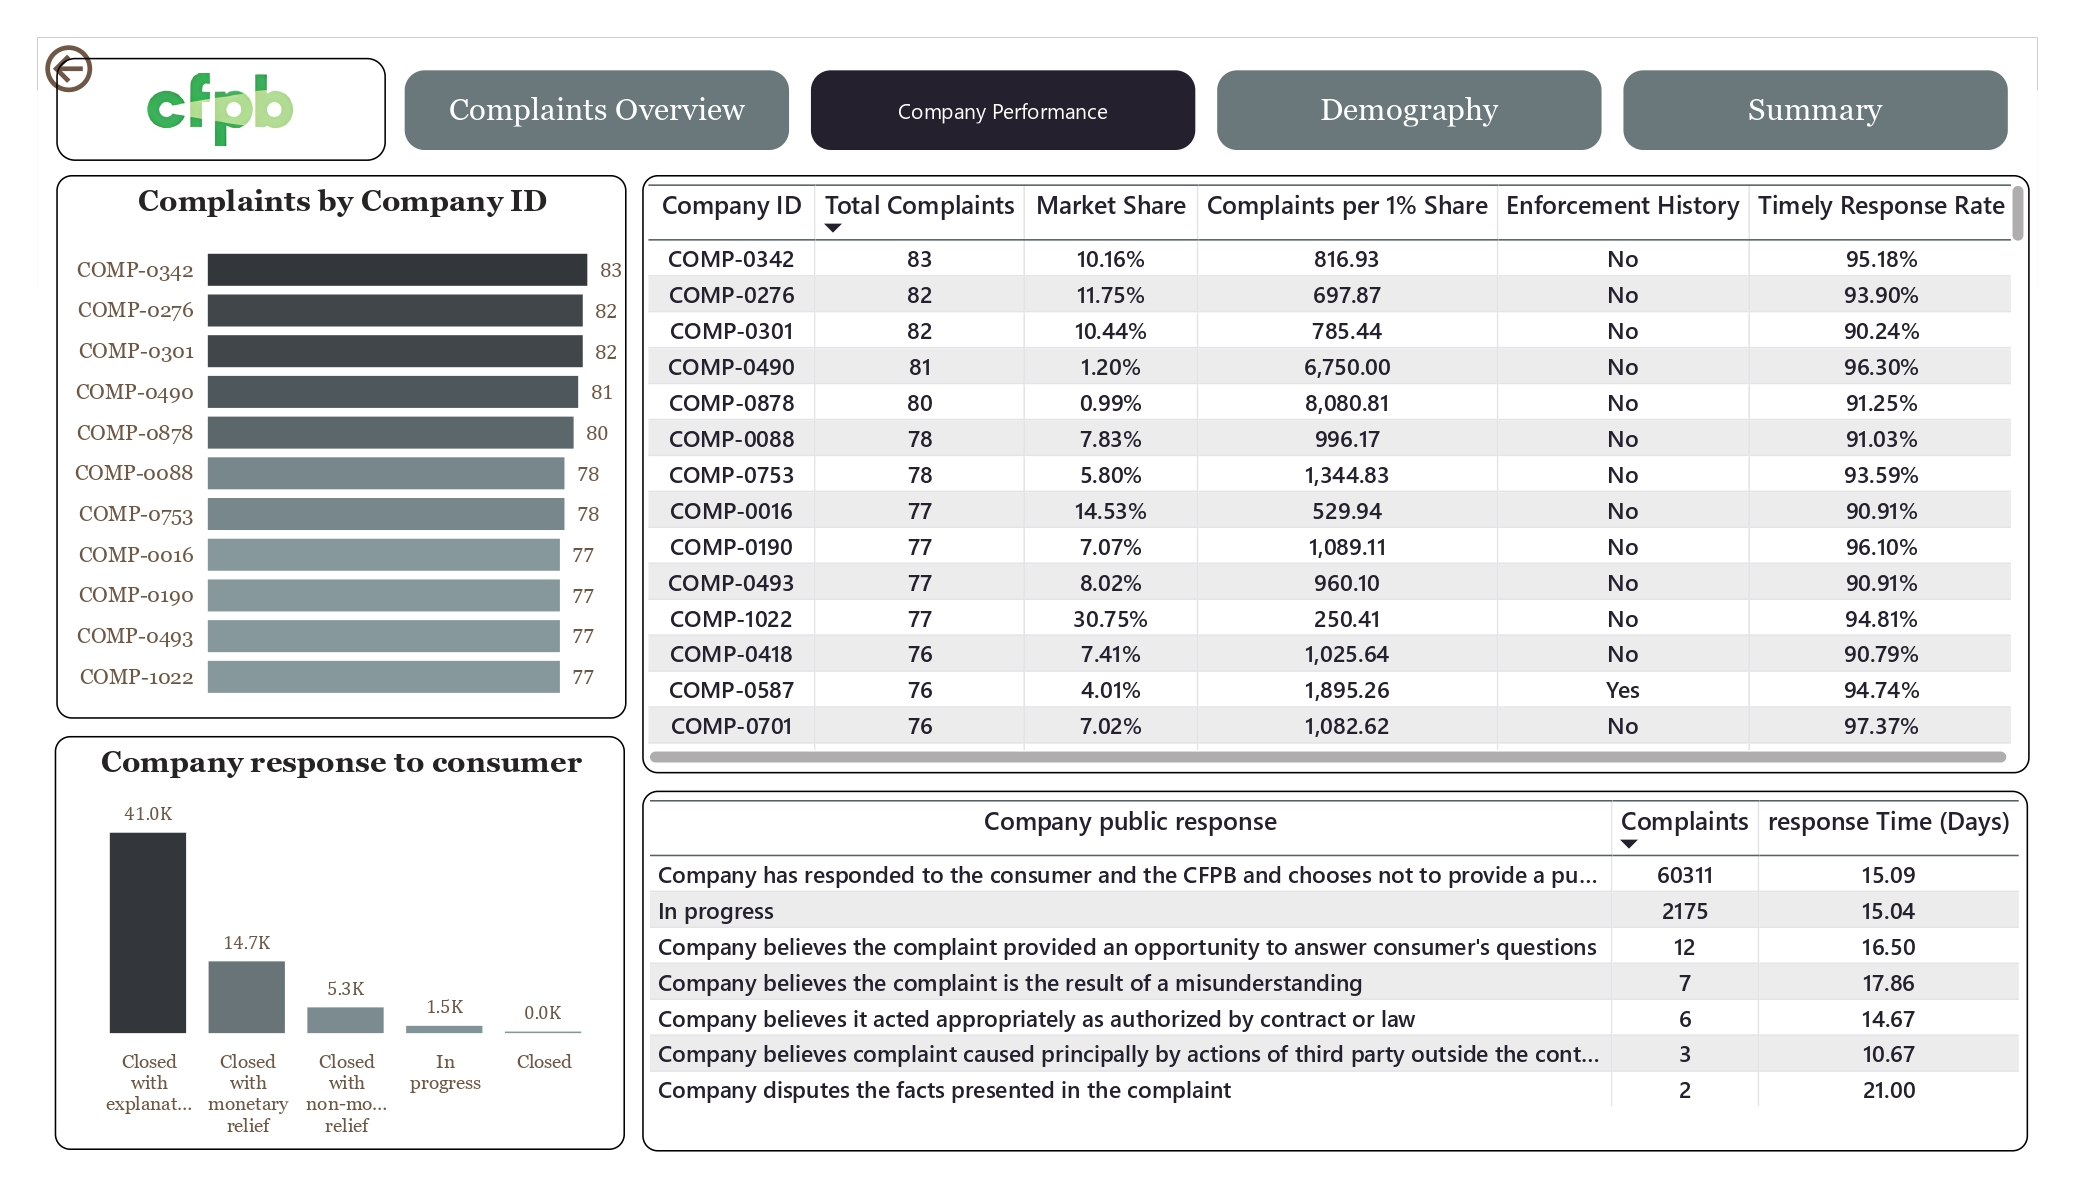

Layout of this report page (visuals, bound fields, positions):
{"tool":"powerbi","page":{"name":"Company Performance","canvas":[1280,720],"ordinal":1},"visuals":[{"type":"actionButton","box":[0,0,100,40.3],"z":0},{"type":"clusteredBarChart","title":"Complaints by Company ID","fields":{"Category":["Company.Company_ID_1081"],"Y":["Complaints (Fact).Total Complaints"]},"box":[12.3,87.8,365,348.5],"z":1000},{"type":"clusteredColumnChart","title":"Company response to consumer","fields":{"Category":["Complaints (Fact).Company response to consumer"],"Y":["CountNonNull(Complaints (Fact).Company response to consumer)"]},"box":[11,447.3,365,264.8],"z":2000},{"type":"tableEx","fields":{"Values":["Complaints (Fact).Company public response","Complaints (Fact).Total Complaints","Complaints (Fact).Avg response Time(Days)"]},"box":[386.6,482.1,887.2,231],"z":3000},{"type":"image","box":[11.8,13.2,211.7,66.1],"z":5000},{"type":"pageNavigator","box":[234.6,12.3,1027.8,65.9],"z":6000},{"type":"tableEx","fields":{"Values":["Company.Company_ID_1081","Complaints (Fact).Total Complaints","Company.Market_Share_Percent","Company.Complaints_per_1pct_Share","Company.Enforcement_History","Company.Timely_Response_Rate"]},"box":[387,87.8,887.8,382.8],"z":7000}]}

Visuals, with their boxes in screenshot pixels (x1, y1, x2, y2):
actionButton: [38, 38, 194, 100]
"Complaints by Company ID" clusteredBarChart: [57, 175, 627, 719]
"Company response to consumer" clusteredColumnChart: [55, 736, 625, 1150]
tableEx - Complaints (Fact).Company public response x Complaints (Fact).Total Complaints: [642, 791, 2028, 1152]
image: [56, 58, 387, 161]
pageNavigator: [404, 57, 2010, 160]
tableEx - Company.Company_ID_1081 x Complaints (Fact).Total Complaints: [642, 175, 2029, 773]
